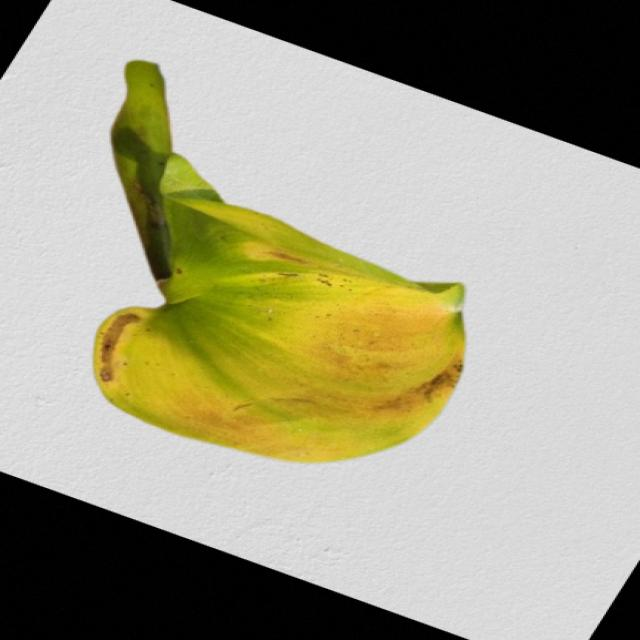daun berpenyakit kuning: (93, 61, 463, 462)
